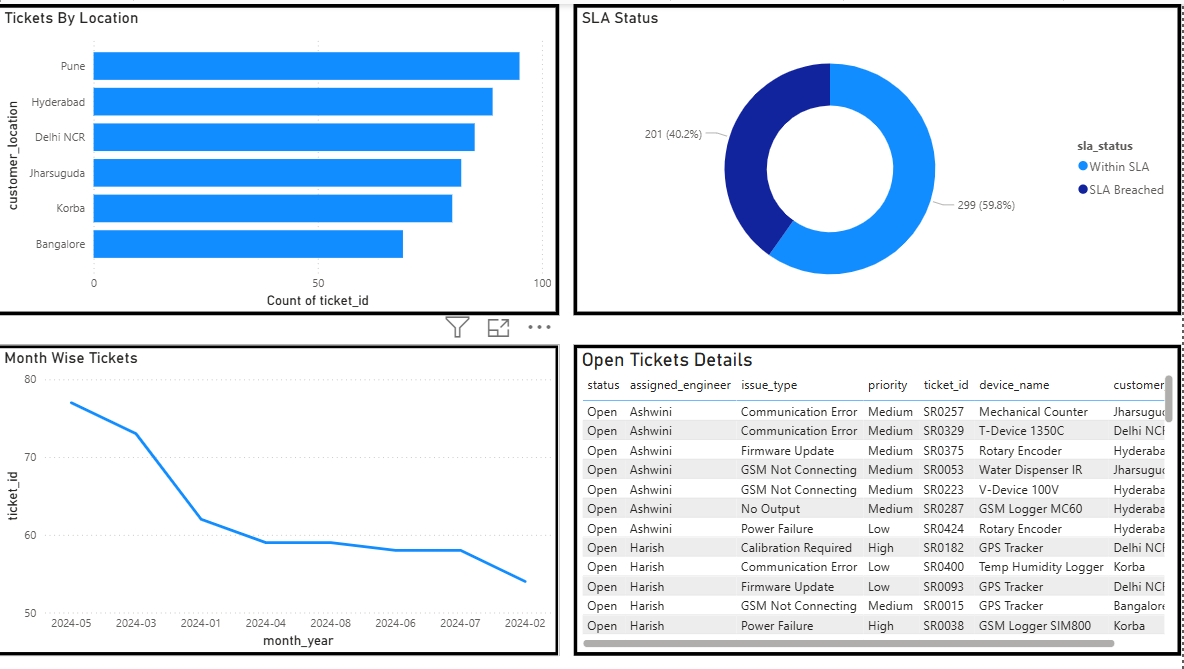

What the dashboard file says about the page in this screenshot:
{"tool":"powerbi","page":{"name":"Page 2","canvas":[1280,720],"ordinal":1},"visuals":[{"type":"lineChart","title":"Month Wise Tickets","fields":{"Y":["CountNonNull(public service_request_dashboard.ticket_id)"],"Category":["public service_request_dashboard.month_year"]},"box":[0,368,608,336],"z":0},{"type":"tableEx","title":"Open Tickets Details","fields":{"Values":["public service_request_dashboard.status","public service_request_dashboard.assigned_engineer","public service_request_dashboard.issue_type","public service_request_dashboard.priority","public service_request_dashboard.ticket_id","public service_request_dashboard.device_name","public service_request_dashboard.customer_location"]},"box":[624,368,656,336],"z":1000},{"type":"barChart","title":"Tickets By Location","fields":{"Y":["CountNonNull(public service_request_dashboard.ticket_id)"],"Category":["public service_request_dashboard.customer_location"]},"box":[0,0,608,336],"z":2000},{"type":"donutChart","title":"SLA Status","fields":{"Category":["public service_request_dashboard.sla_status"],"Y":["CountNonNull(public service_request_dashboard.sla_status)"]},"box":[624,0,656,336],"z":3000}]}

Visuals, with their boxes in screenshot pixels (x1, y1, x2, y2), scaled from the page's 1280x720 canvas onto the 1184x669 screenshot:
"Month Wise Tickets" lineChart: region(0, 342, 562, 654)
"Open Tickets Details" tableEx: region(577, 342, 1183, 654)
"Tickets By Location" barChart: region(0, 0, 562, 312)
"SLA Status" donutChart: region(577, 0, 1183, 312)
